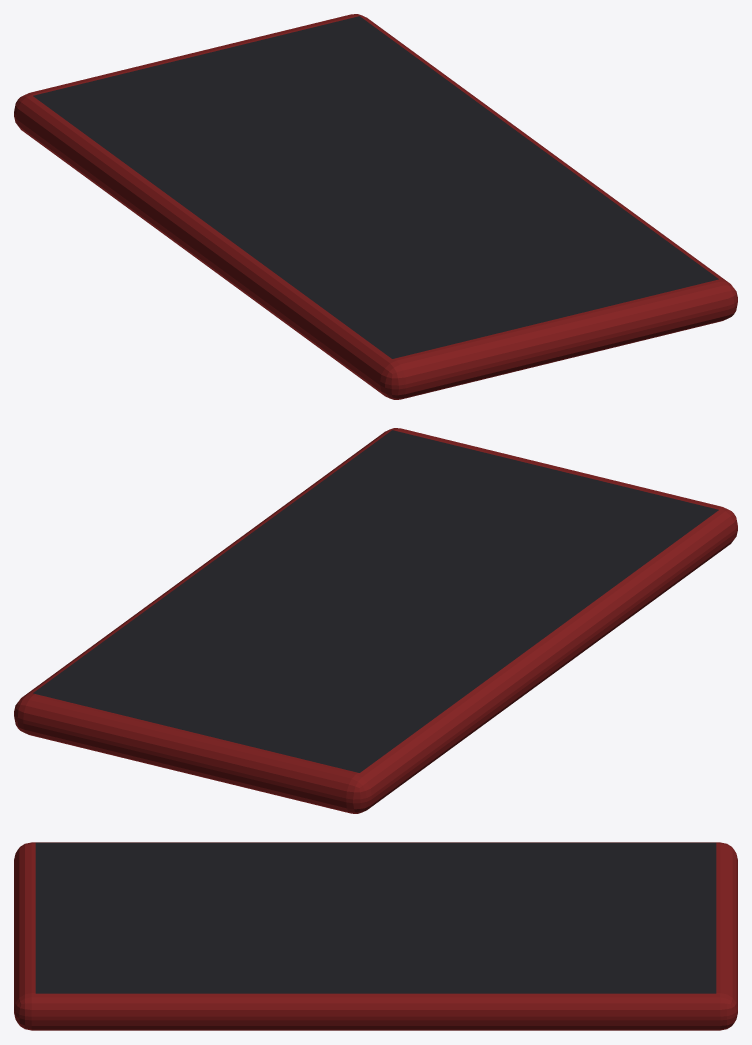
Rendered from Phone_847.glb.
3 views of the same model, one above another, from view 1: azimuth 30°, elevation 25°; view 2: azimuth 150°, elevation 25°; view 3: azimuth 270°, elevation 25° (orthographic). The views are drawn at different scales.
Visible parts, largest first — view 1: Phone_Screen, Phone_Body; view 2: Phone_Screen, Phone_Body; view 3: Phone_Screen, Phone_Body.
Part boxes in pixels (x1,y1,x2,y2): Phone_Screen: (33, 16, 718, 358); Phone_Body: (14, 14, 737, 399); Phone_Screen: (33, 430, 718, 772); Phone_Body: (14, 428, 737, 813); Phone_Screen: (35, 842, 716, 993); Phone_Body: (14, 842, 737, 1030).
Size of the model in its own units: 0.0796 by 0.0082 by 0.1484.
